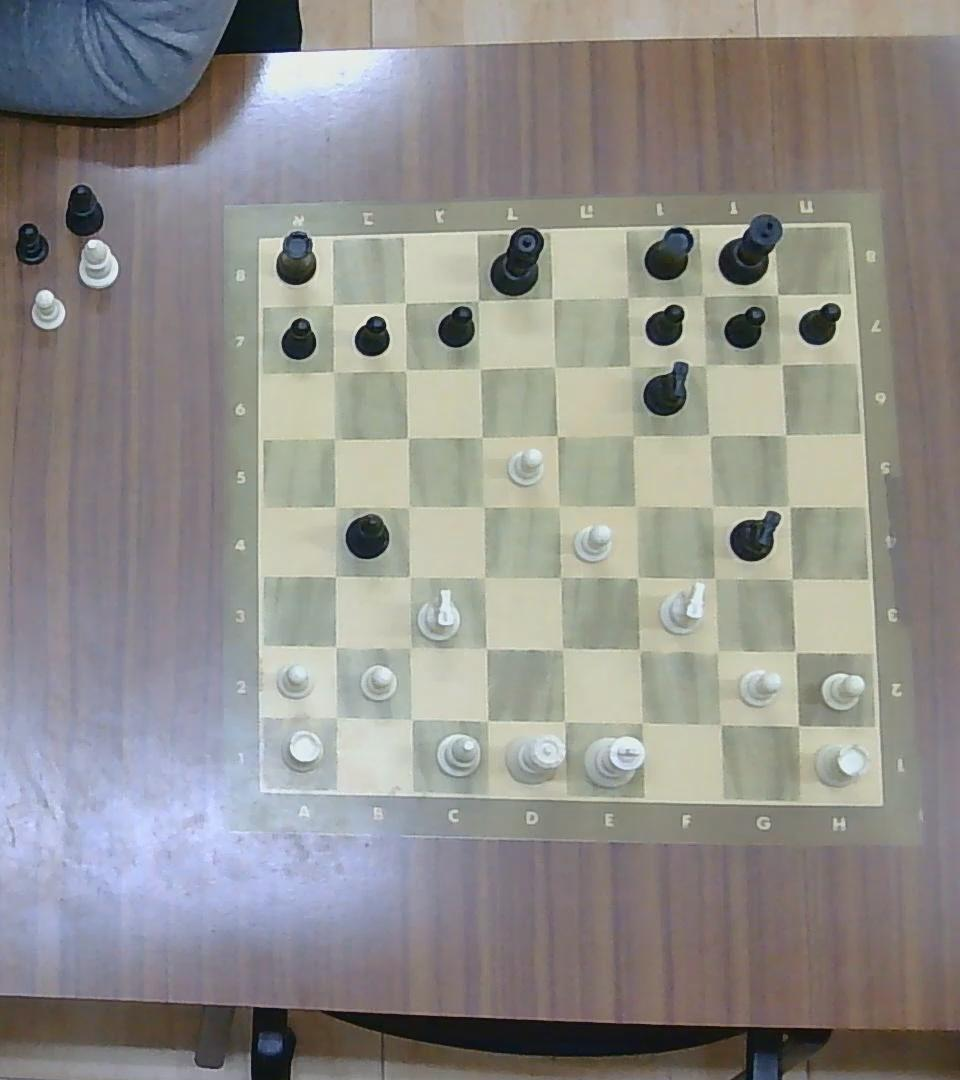xcorner: (702, 705, 737, 739), (624, 705, 658, 738), (701, 635, 734, 667), (781, 707, 813, 740), (546, 633, 578, 665), (624, 633, 655, 665), (320, 701, 351, 733), (470, 703, 501, 734), (470, 632, 501, 663), (548, 704, 578, 736), (395, 703, 425, 734), (780, 636, 811, 666), (622, 561, 651, 592), (545, 561, 574, 592), (394, 633, 424, 662), (320, 631, 350, 660), (699, 564, 728, 593), (394, 562, 423, 591), (622, 491, 651, 520), (470, 562, 498, 591), (470, 491, 498, 520), (320, 561, 349, 589), (619, 421, 647, 449), (777, 565, 806, 592), (616, 352, 645, 379), (545, 492, 573, 519), (395, 492, 423, 519), (543, 420, 571, 447), (774, 491, 802, 517), (699, 491, 726, 517), (318, 292, 345, 318), (319, 358, 345, 384), (540, 285, 566, 311), (468, 421, 493, 448), (394, 424, 420, 449), (696, 421, 722, 446), (615, 284, 641, 309), (323, 493, 349, 518), (693, 352, 718, 376), (768, 350, 793, 374), (467, 355, 491, 380), (773, 421, 798, 445), (466, 288, 491, 312), (393, 357, 417, 381), (322, 425, 347, 448), (691, 283, 714, 307), (391, 290, 415, 313), (542, 354, 566, 377), (766, 283, 790, 306)
